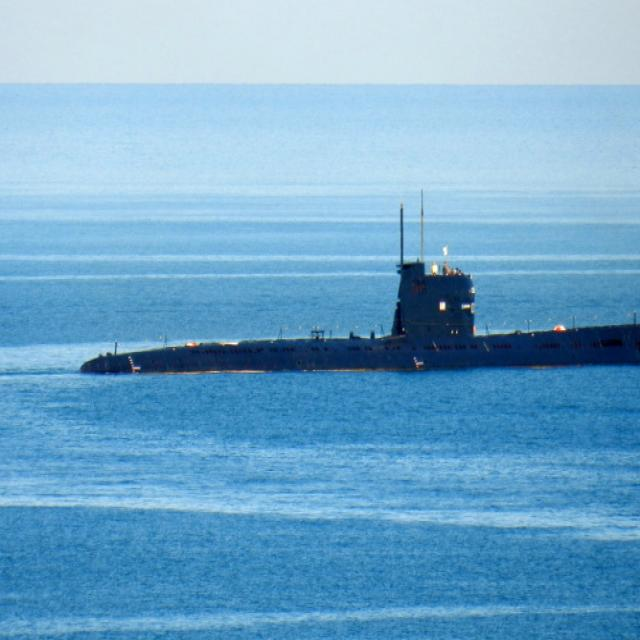submarine: (81, 185, 640, 375)
